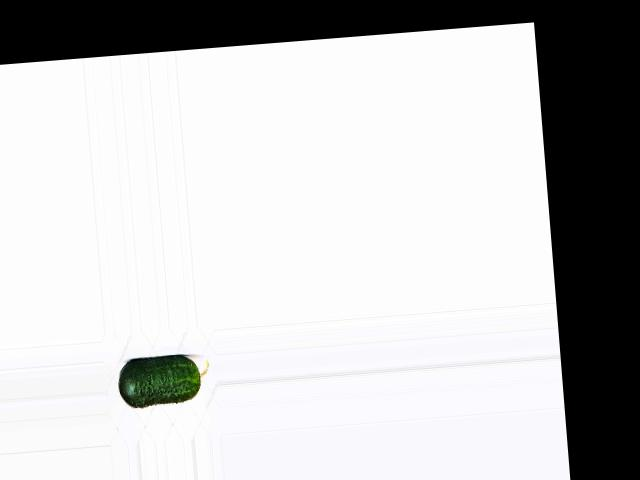cucumber: (116, 353, 211, 408)
